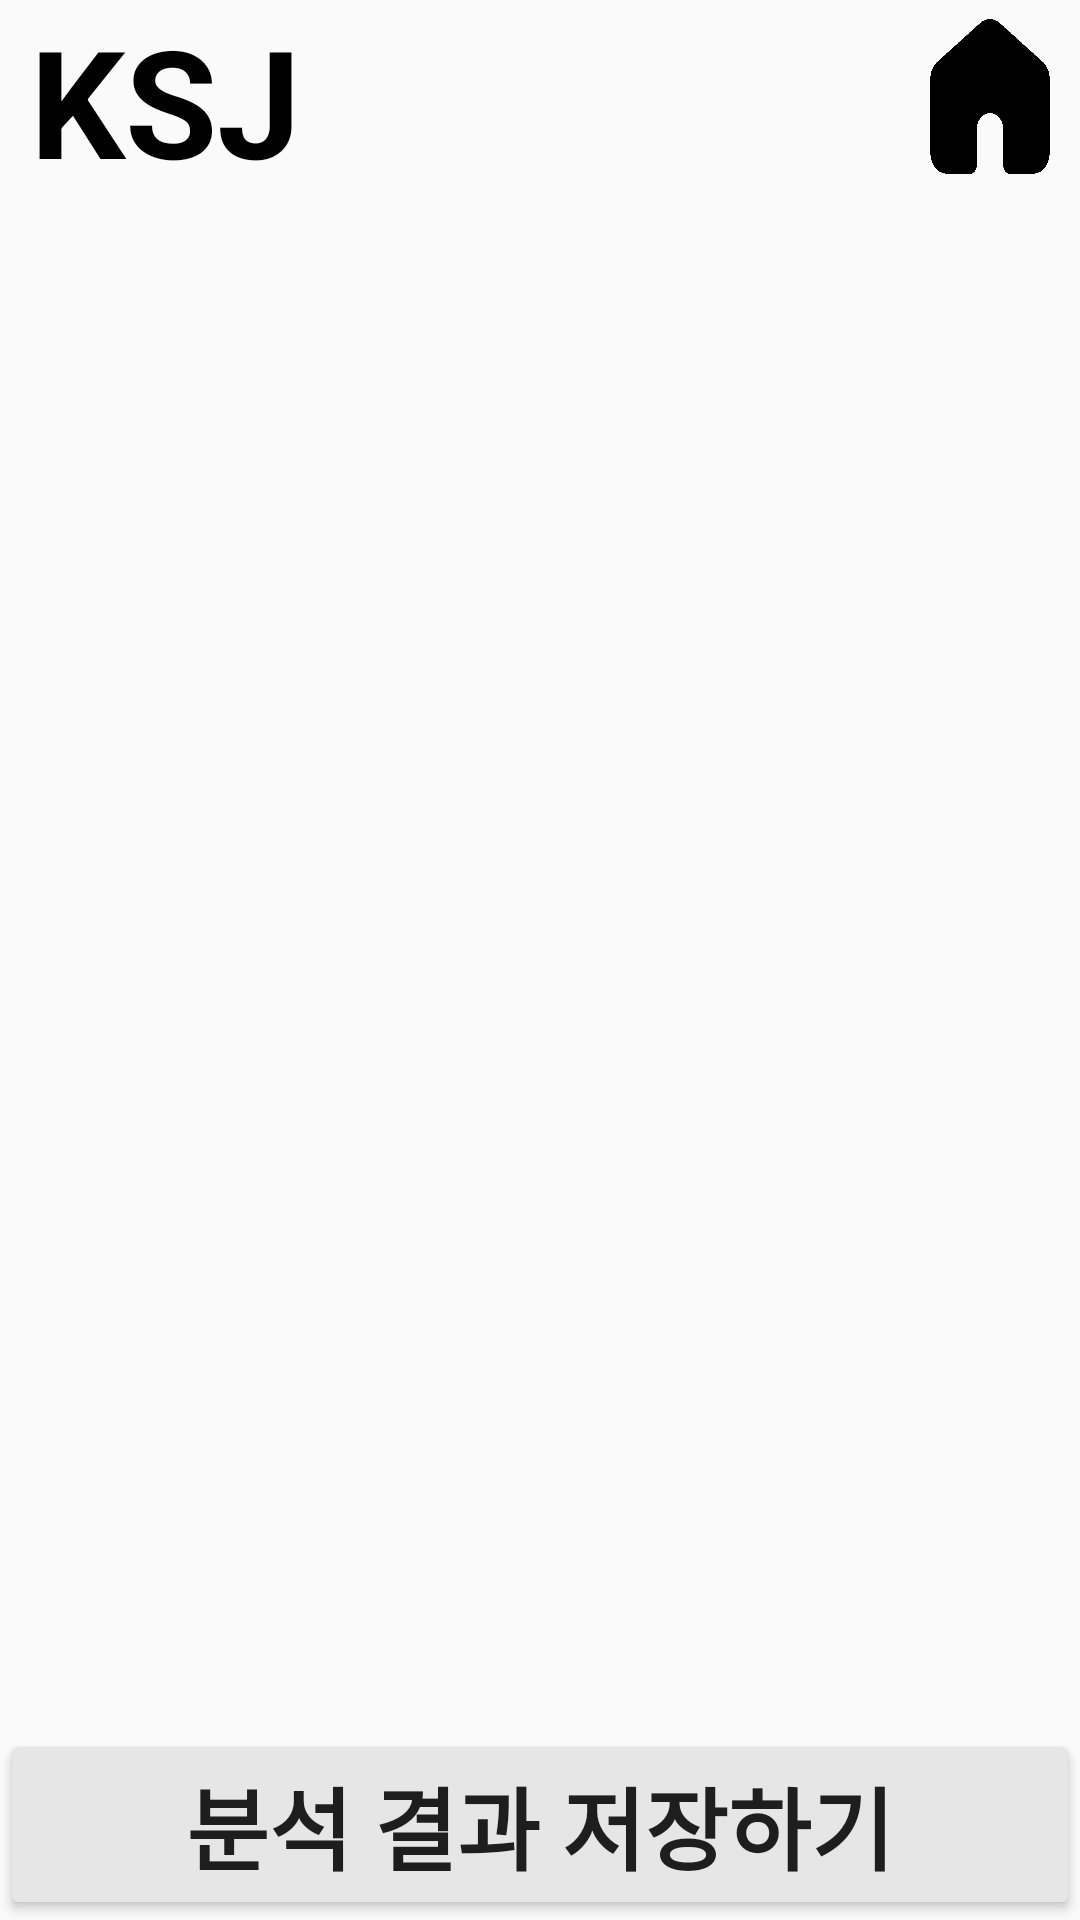

Icons on this 1080 x 1920 Android screen, each with its box as [left=x1, top=y1, right=x2, bottom=y2]:
btnhome: [left=930, top=19, right=1050, bottom=174]
